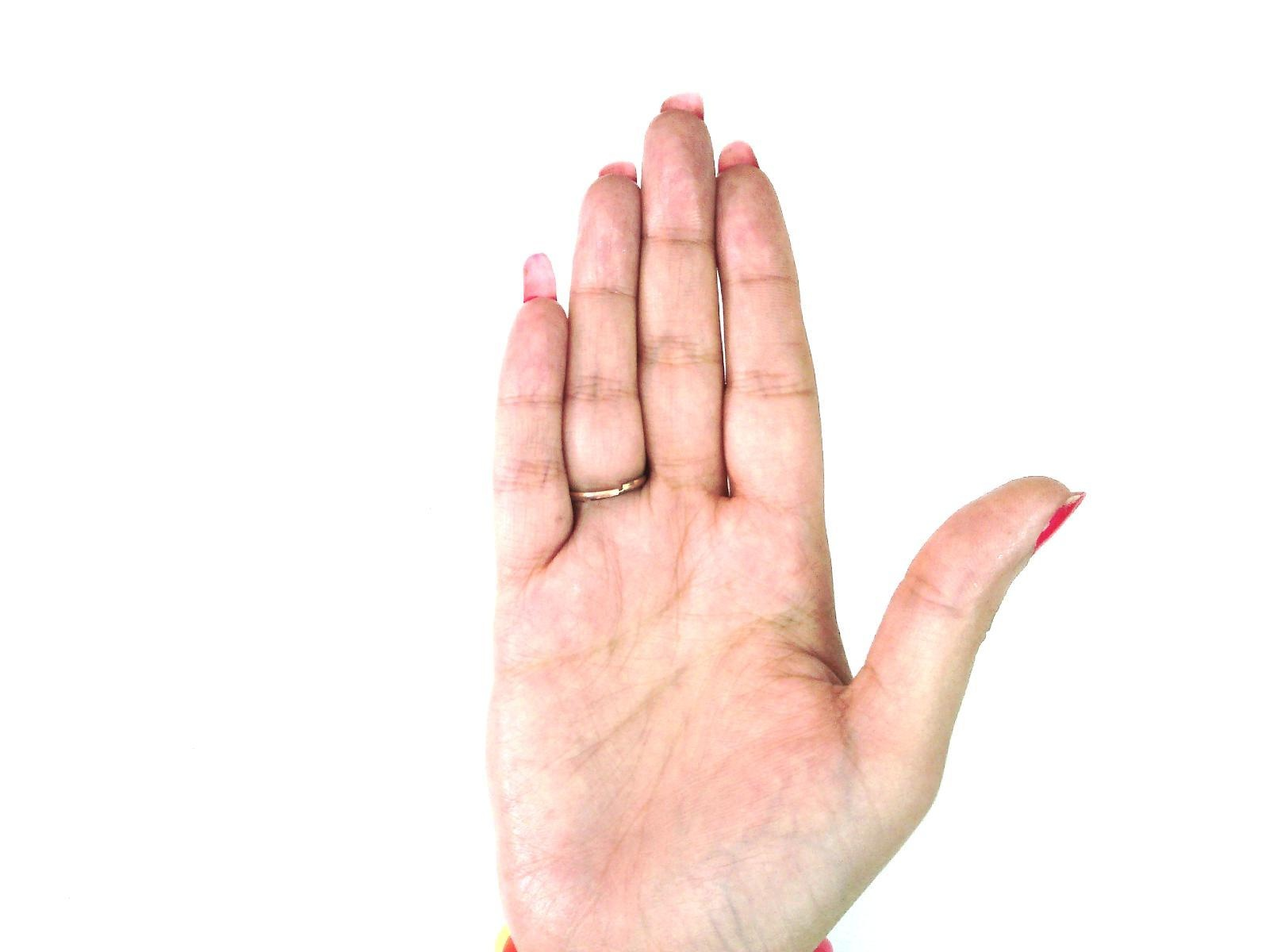open_palm: (482, 92, 1087, 951)
